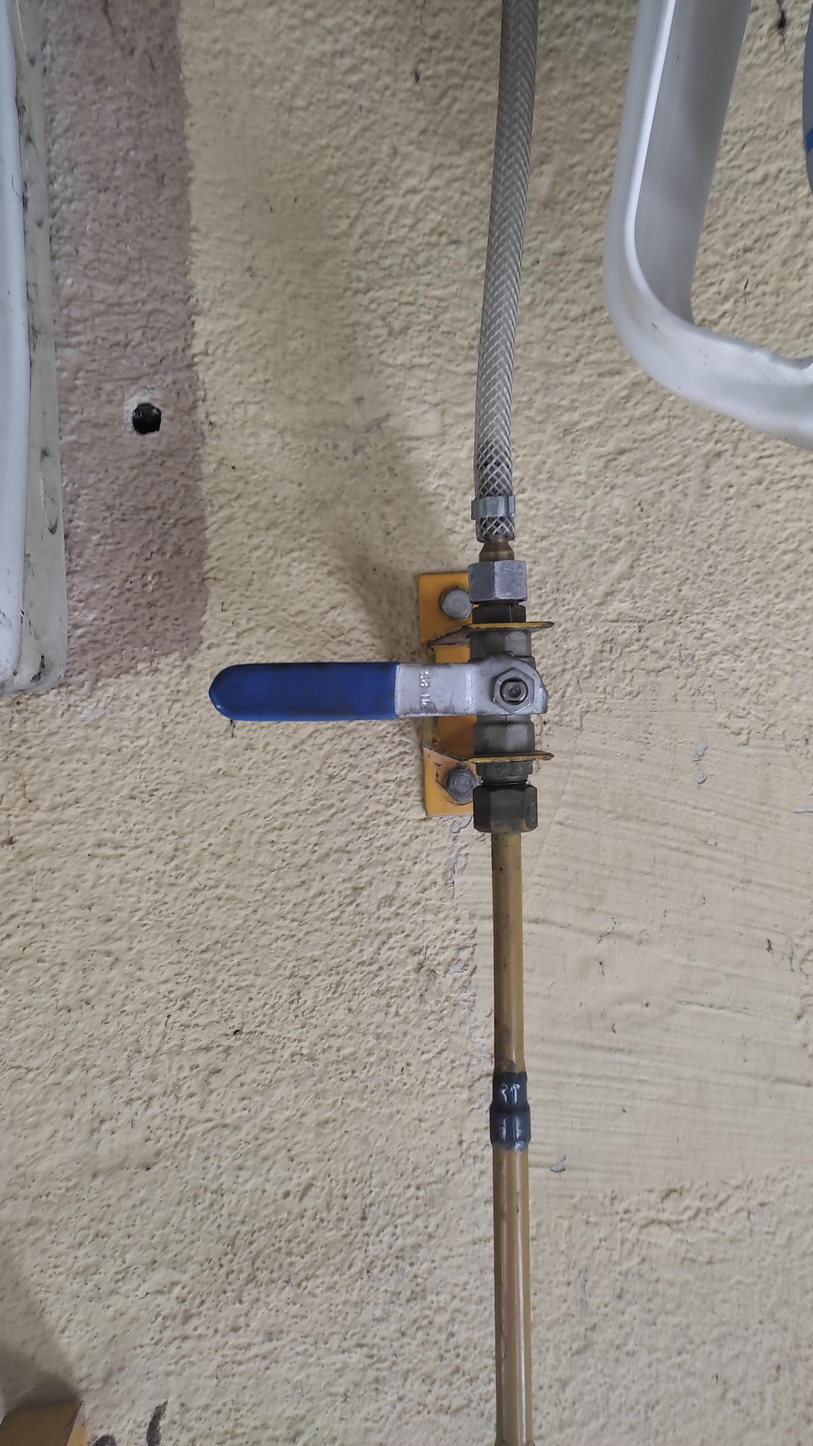closed valve: (207, 613, 555, 769)
